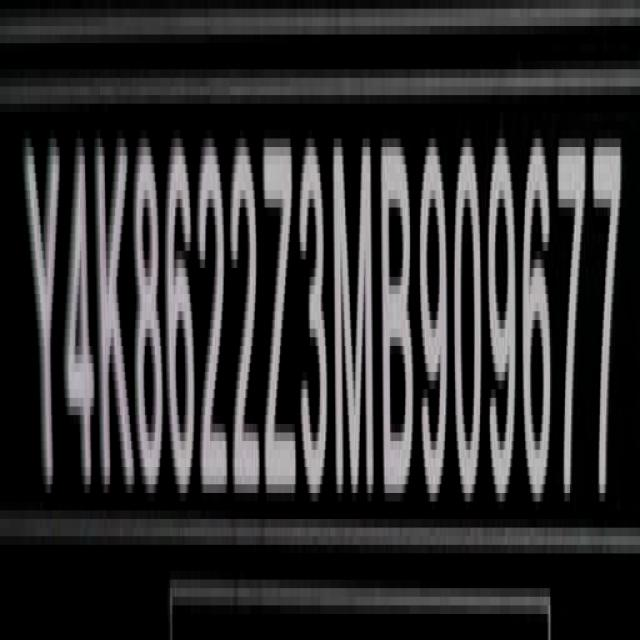0: (451, 119, 482, 515)
2: (229, 113, 260, 518), (200, 120, 231, 514)
3: (297, 138, 332, 506)
4: (60, 112, 94, 508)
6: (165, 121, 198, 510), (522, 124, 554, 516)
7: (555, 121, 588, 521), (591, 132, 622, 526)
8: (134, 115, 166, 512)
9: (486, 125, 521, 516), (418, 120, 452, 513)
B: (383, 124, 417, 508)
K: (96, 111, 134, 508)
M: (334, 125, 378, 511)
Y: (22, 115, 62, 511)
Z: (262, 126, 296, 517)
